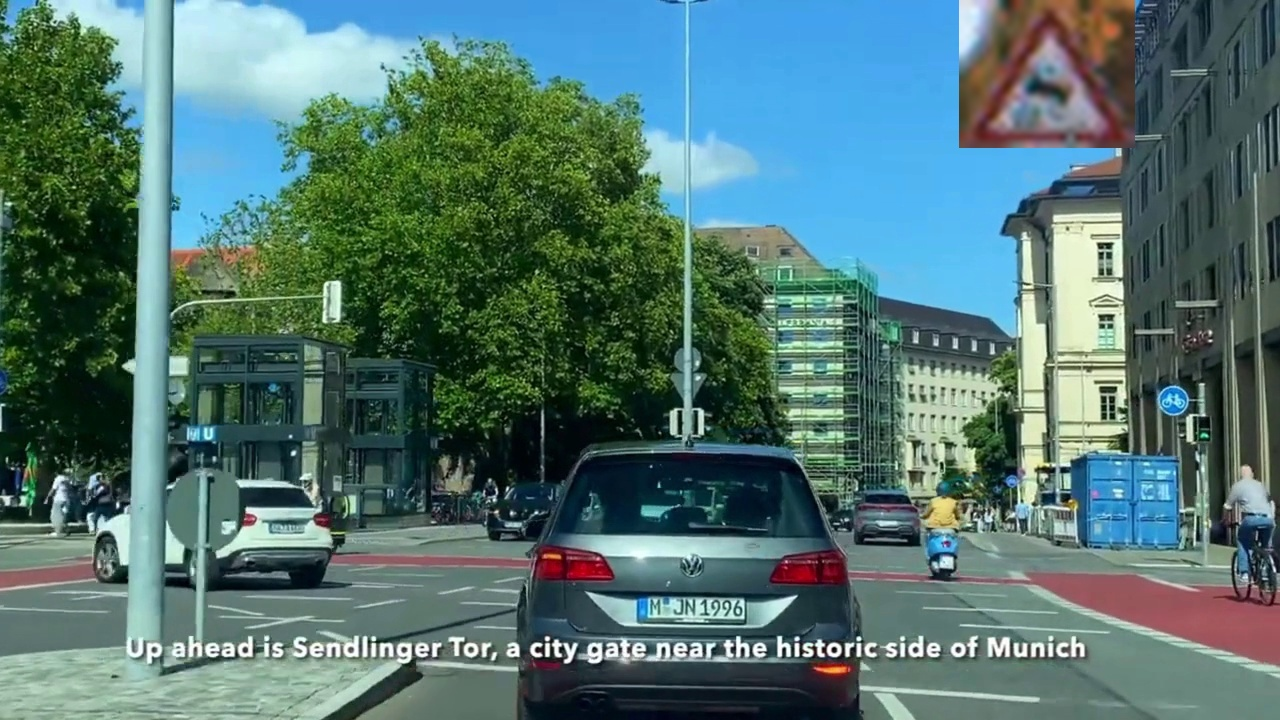Slippery: (959, 0, 1135, 148)
